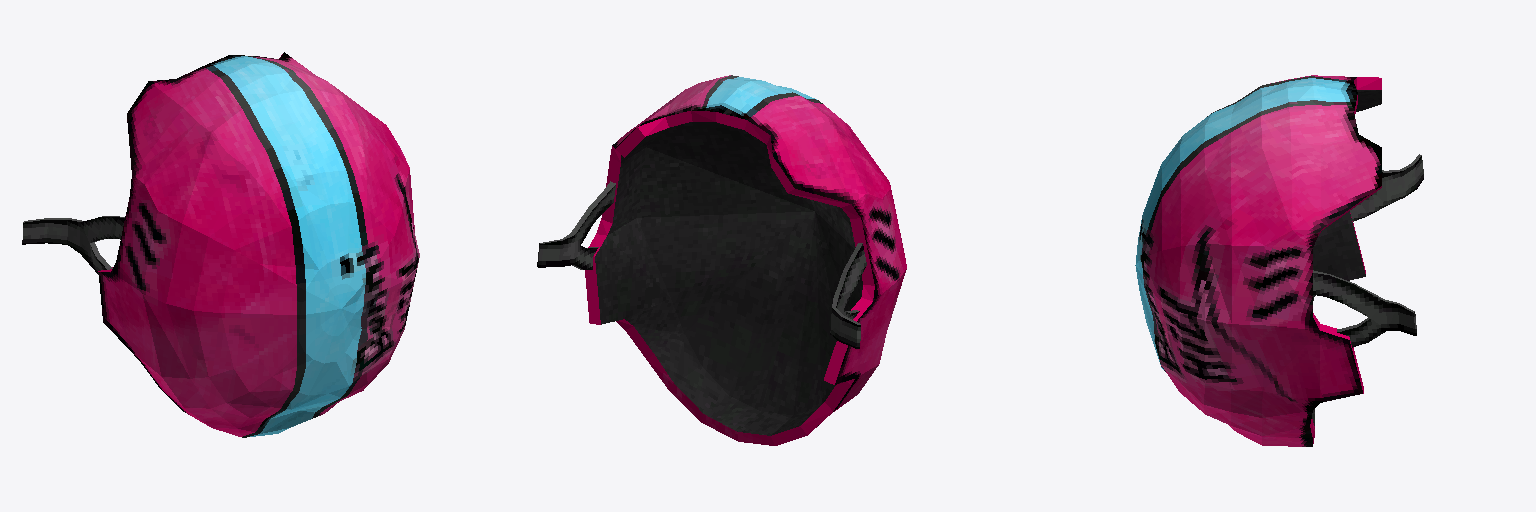
3 renders of one model, left to right at view 1: azimuth 30°, elevation 25°; view 2: azimuth 150°, elevation 25°; view 3: azimuth 270°, elevation 25°, orthographic.
Visible parts, largest first — view 1: SignedHelmet; view 2: SignedHelmet; view 3: SignedHelmet.
Part boxes in pixels (x1,y1,x2,y2): SignedHelmet: (22,52,419,437); SignedHelmet: (537,75,906,445); SignedHelmet: (1135,75,1423,446).
Size of the model in its own units: 0.7658 by 0.7942 by 0.588.
1 materials, 1 textured.